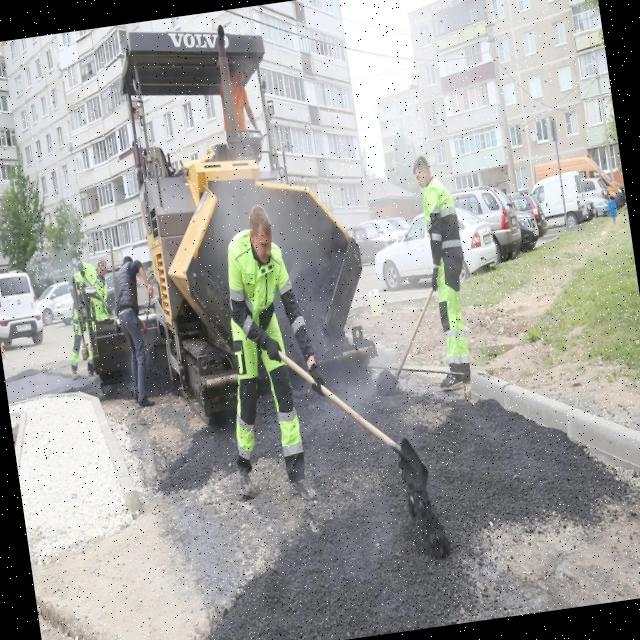Jacket: (231, 246, 291, 336), (423, 181, 462, 260), (84, 267, 108, 316)
NoJacket: (115, 263, 141, 314)
